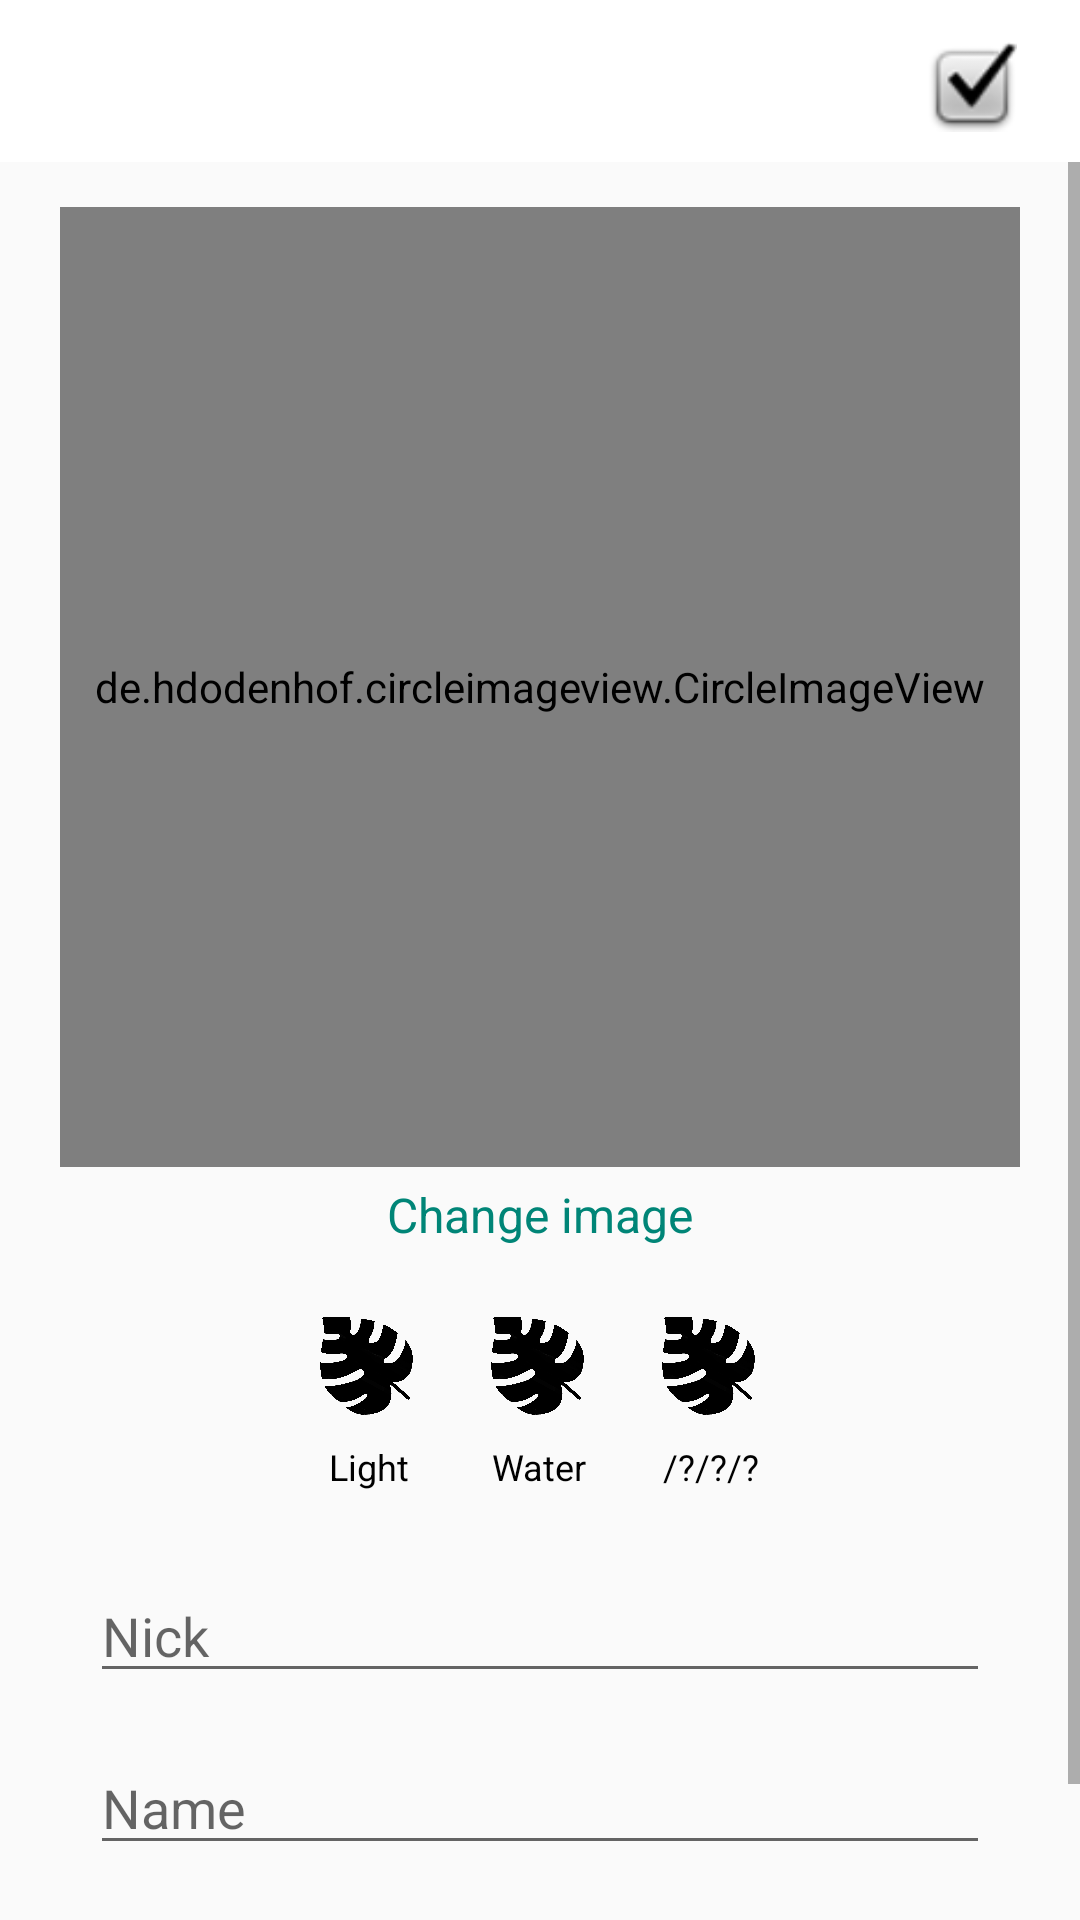

Icon click points for this 1080×1920 phone screenshot, format (x,y):
leaf: (366,1366), (537,1366), (708,1366)
